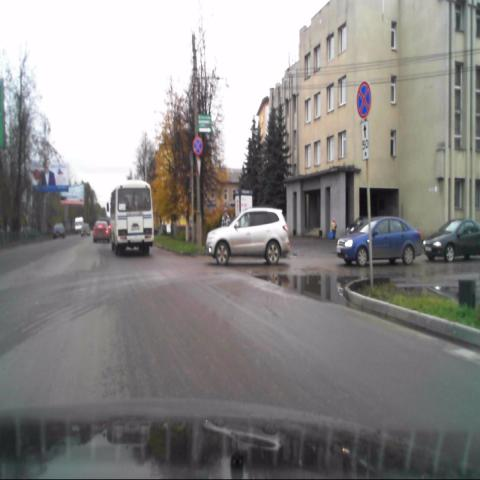8_2_2: (361, 121, 370, 160)
